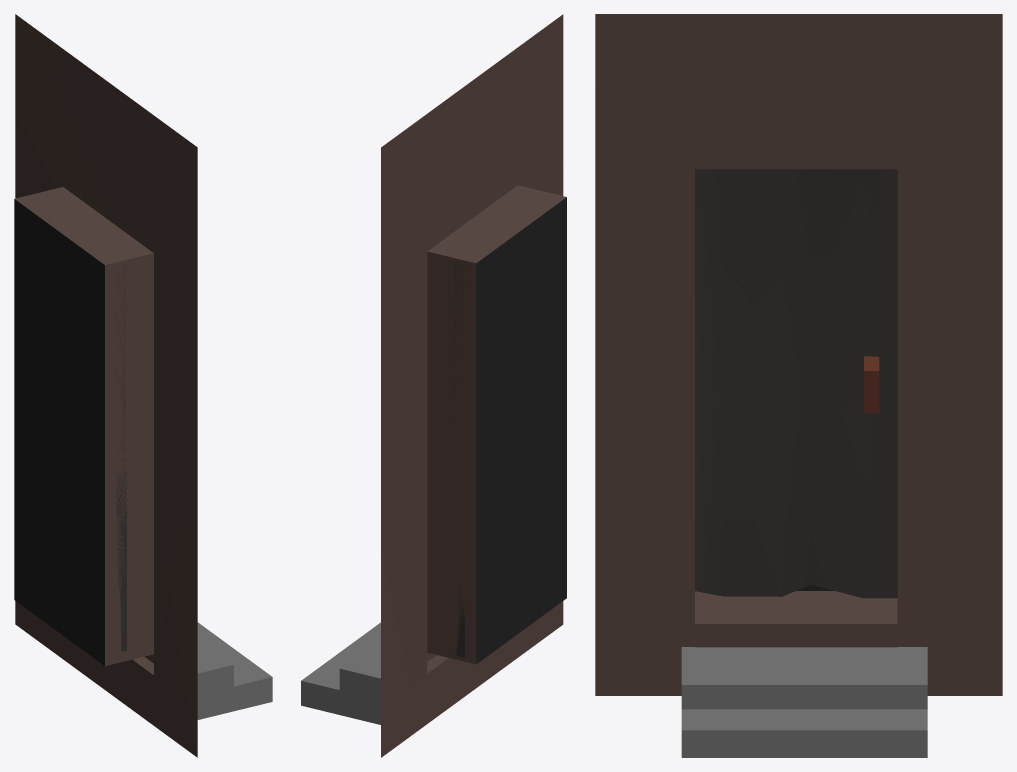
File: door 1.fbx
The picture shows the model from 3 angles, left to right: view 1: azimuth 30°, elevation 25°; view 2: azimuth 150°, elevation 25°; view 3: azimuth 270°, elevation 25°; orthographic projection. The views are drawn at different scales.
Visible parts, largest first — view 1: door; view 2: door; view 3: door.
Boxes of the visible parts, x1,y1,x2,y2 form: door: [14, 14, 272, 757]; door: [301, 14, 566, 757]; door: [595, 14, 1002, 757].
Size of the model in its own units: 133 by 480 by 260.
